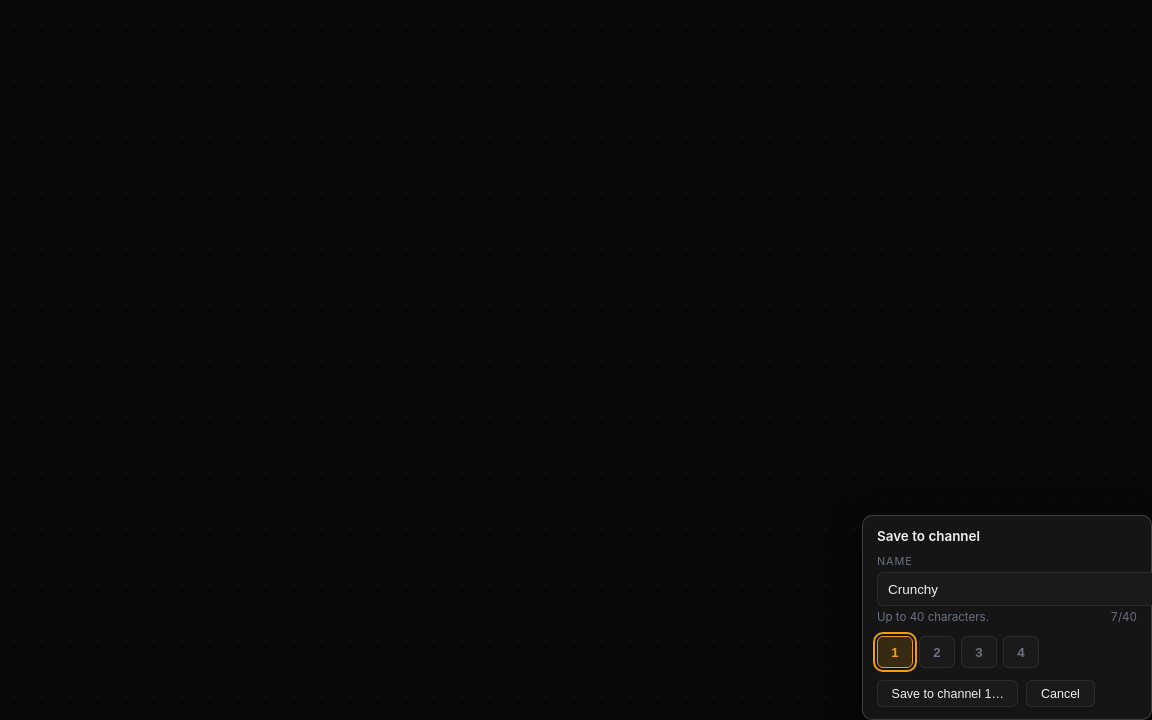
Test: save slot picker › goes back from the confirmation without saving
(page scrolled)
Click the button "Save to channel 1…" at {"x": 948, "y": 694}, box [877, 680, 1018, 707]
(page scrolled)
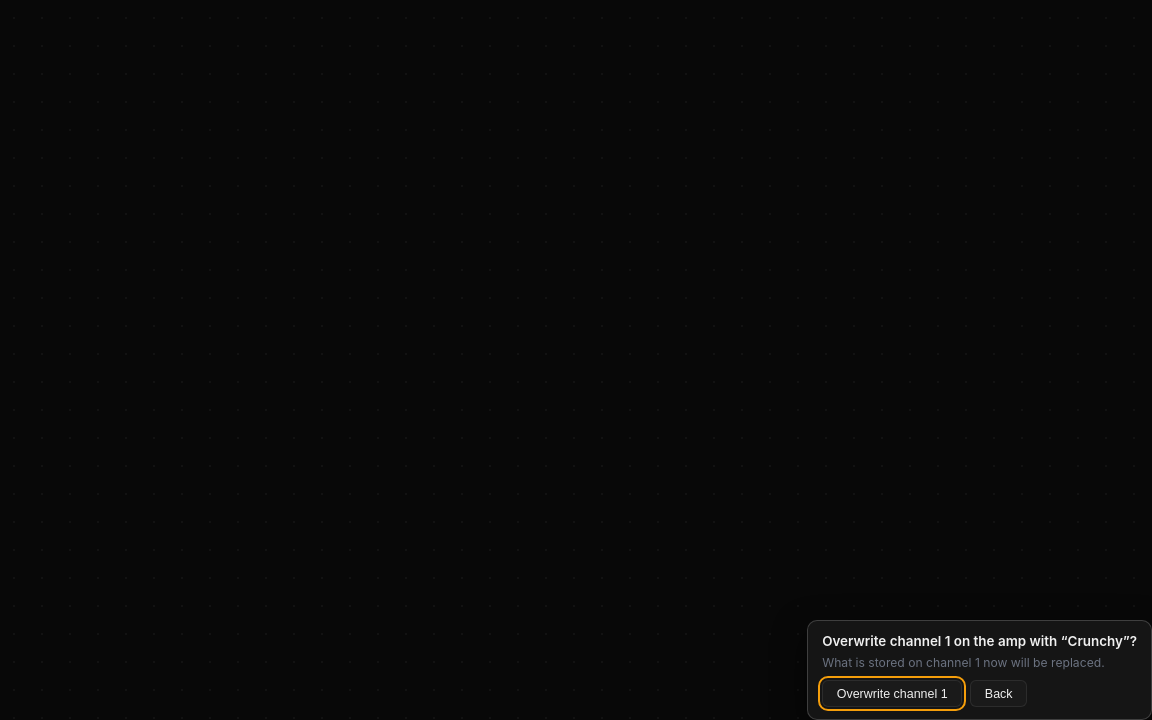
Click the button "Back" at {"x": 999, "y": 694}, box [970, 680, 1027, 707]
(page scrolled)
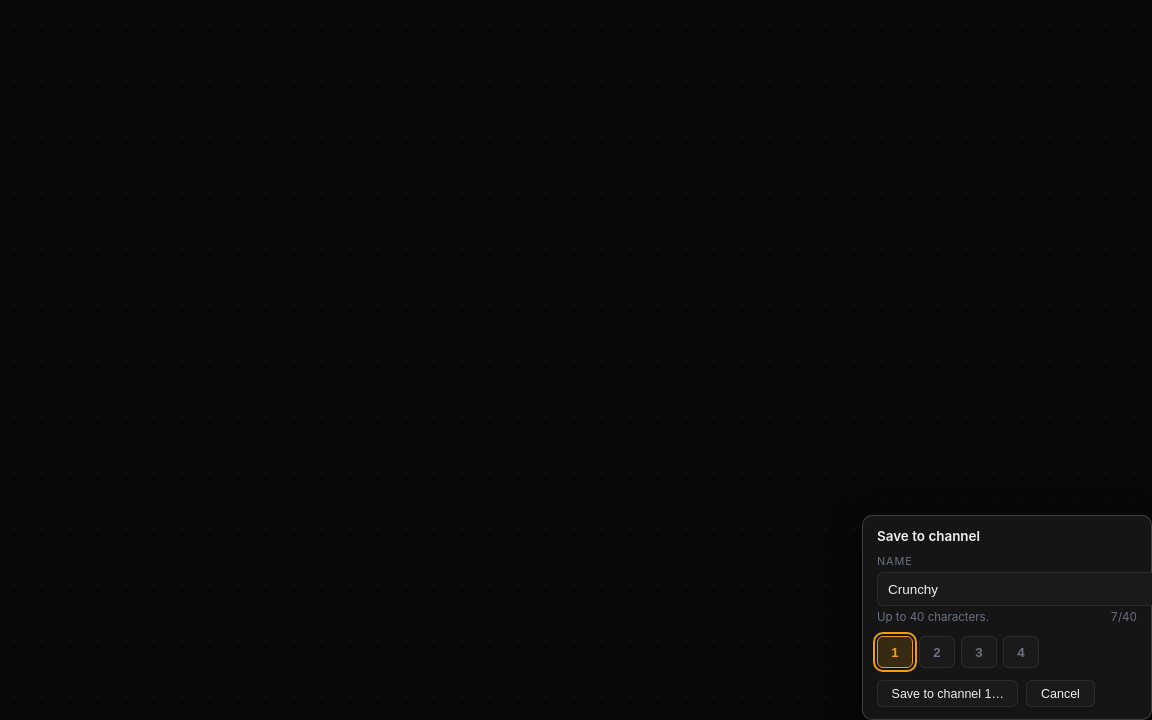
Now the number of radio buttons is 4, box [877, 636, 913, 668]; [919, 636, 955, 668]; [961, 636, 997, 668]; [1003, 636, 1039, 668]
